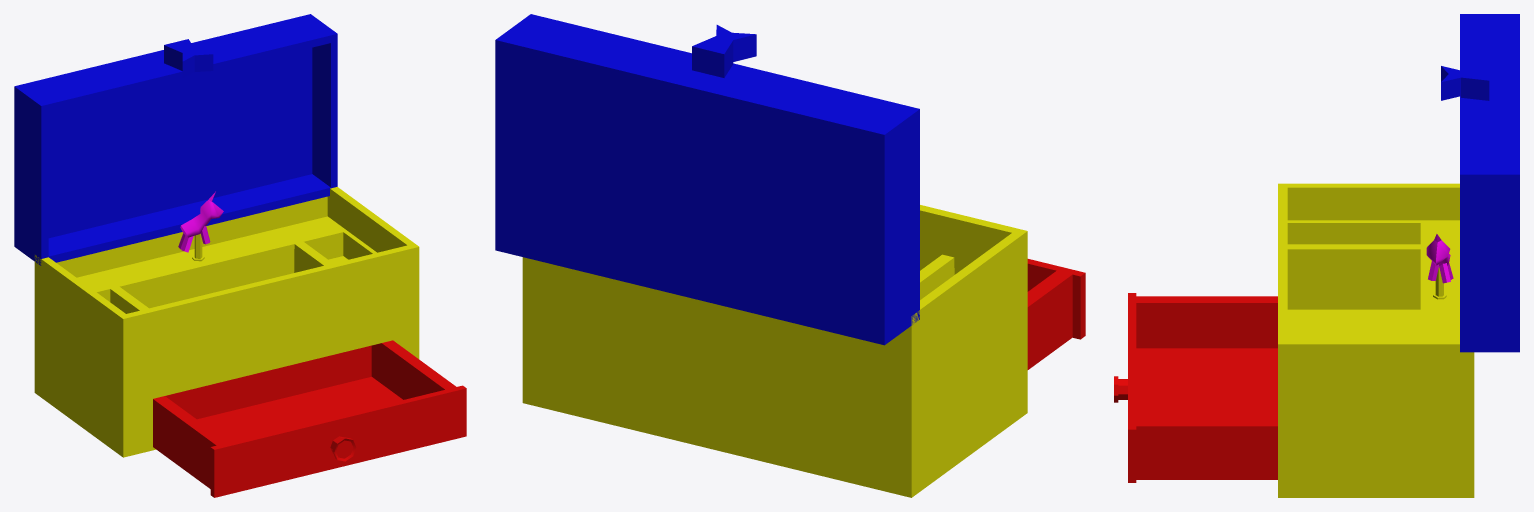
Rendered from JewelryBox.fbx.
3 renders of one model, left to right at view 1: azimuth 30°, elevation 25°; view 2: azimuth 150°, elevation 25°; view 3: azimuth 270°, elevation 25°, orthographic. The views are drawn at different scales.
Parts seen in each view (by area): view 1: JewelryBox_Body, JewelryBox_Lid, JewelryBox_Tray, JewelryBox_Lid_Latch, JewelryBox_Unicorn; view 2: JewelryBox_Lid, JewelryBox_Body, JewelryBox_Tray, JewelryBox_Lid_Latch; view 3: JewelryBox_Body, JewelryBox_Tray, JewelryBox_Lid, JewelryBox_Lid_Latch, JewelryBox_Unicorn.
Part boxes in pixels (<box>): JewelryBox_Body: <box>34,187,419,457</box>; JewelryBox_Lid: <box>14,14,337,265</box>; JewelryBox_Tray: <box>153,340,466,497</box>; JewelryBox_Lid_Latch: <box>164,39,213,77</box>; JewelryBox_Unicorn: <box>178,191,223,252</box>; JewelryBox_Lid: <box>495,14,919,345</box>; JewelryBox_Body: <box>522,205,1027,497</box>; JewelryBox_Tray: <box>1027,259,1085,369</box>; JewelryBox_Lid_Latch: <box>692,25,756,77</box>; JewelryBox_Body: <box>1278,183,1474,497</box>; JewelryBox_Tray: <box>1114,293,1277,482</box>; JewelryBox_Lid: <box>1460,14,1519,352</box>; JewelryBox_Lid_Latch: <box>1441,66,1489,100</box>; JewelryBox_Unicorn: <box>1426,234,1453,283</box>.
Bounding box in the file's own units: 300 × 300 × 321.
